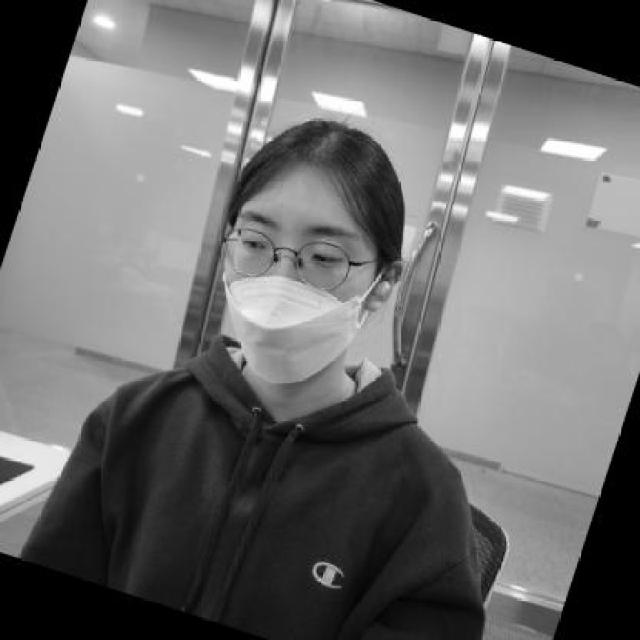earphone: (369, 276, 418, 334)
